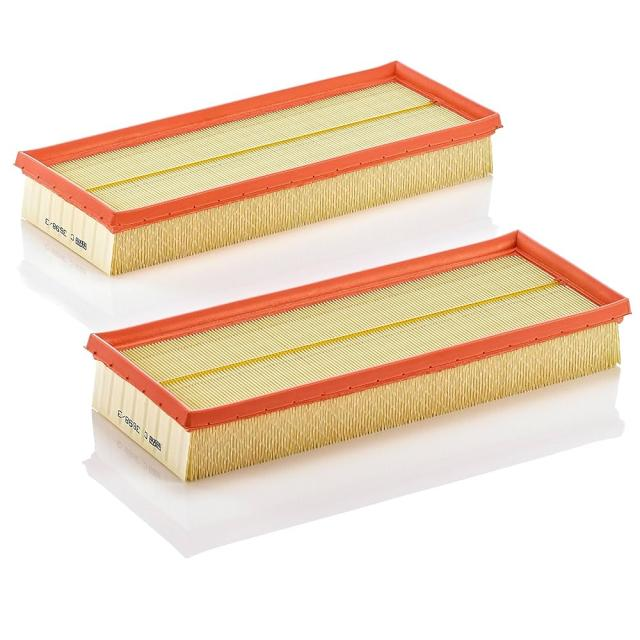air_filter: (62, 260, 640, 490), (0, 50, 502, 240)
